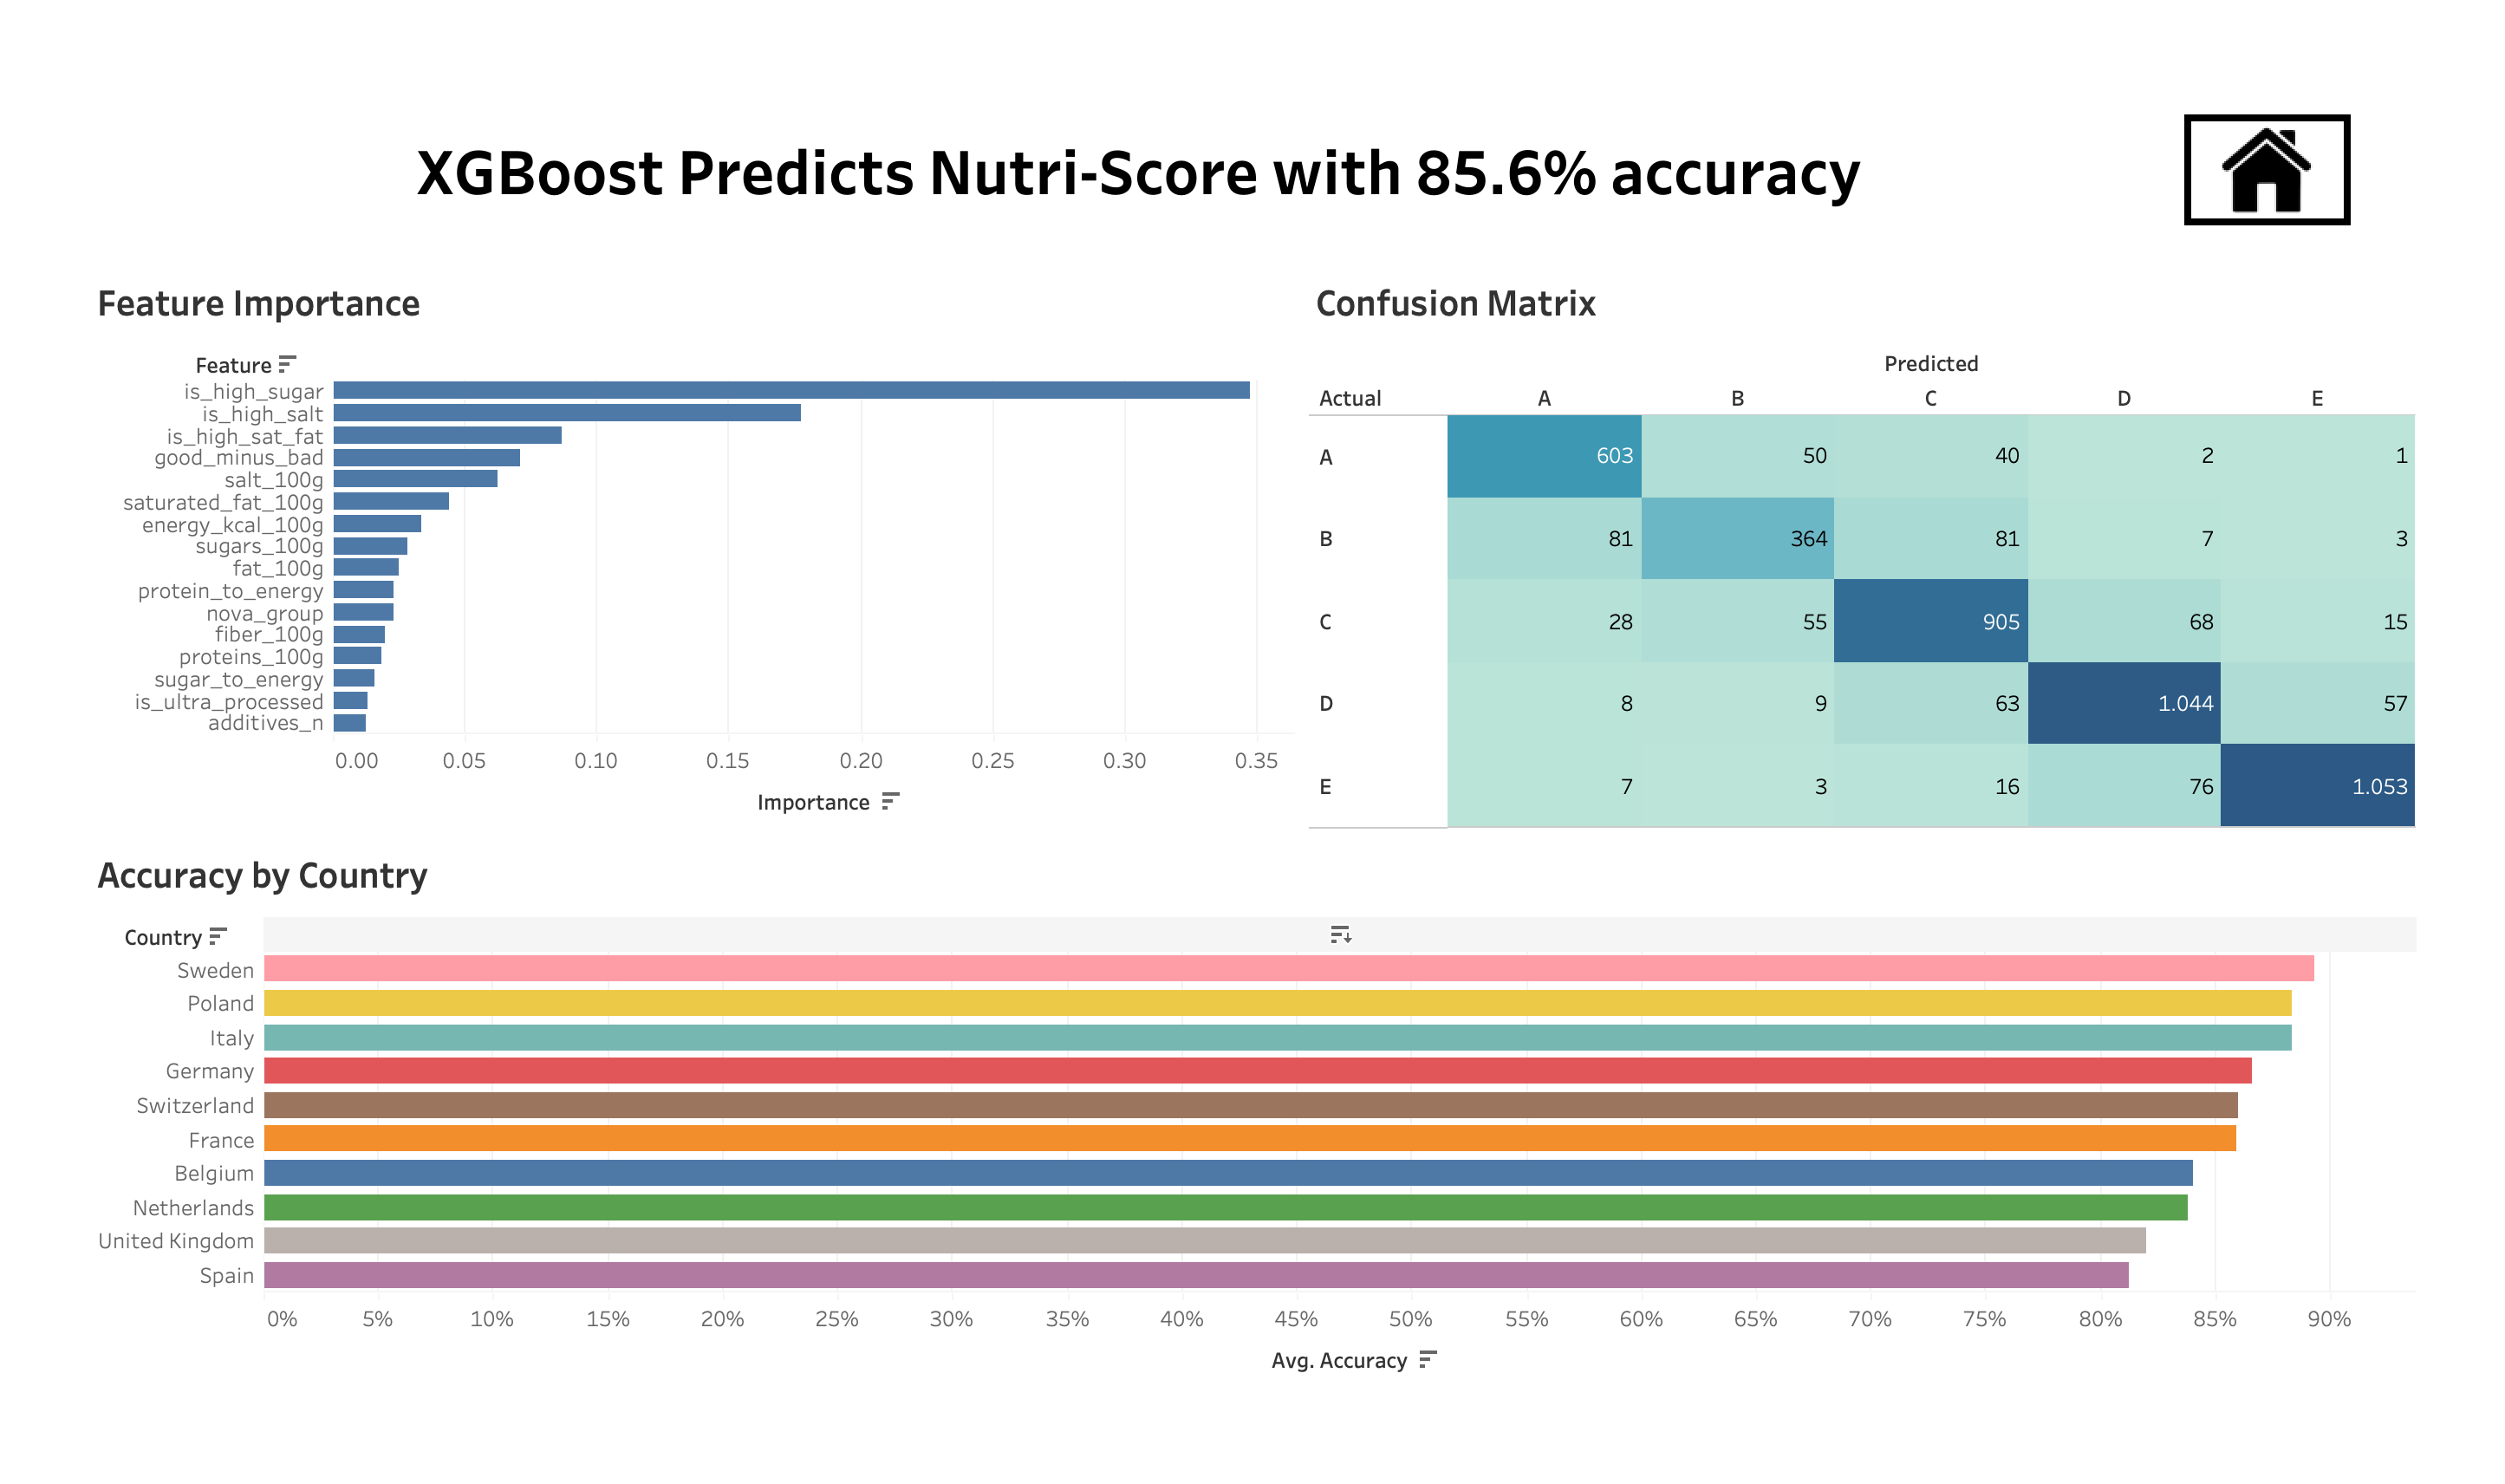

This screenshot's page, from the dashboard's own definition file:
{"tool":"tableau","page":{"name":"Dashboard 3","canvas":[1366,768],"ordinal":2},"visuals":[{"type":"text","box":[18,18,1198,72]},{"type":"dashboard-object","box":[1216,18,104,72]},{"type":"worksheet","title":"Feature Importance","mark":"Automatic","rows":["feature"],"cols":["importance"],"box":[8,108,703,330]},{"type":"worksheet","title":"Confusion Matrix","mark":"Square","rows":["actual"],"cols":["predicted"],"box":[711,108,647,330]},{"type":"worksheet","title":"Accuracy by Country","mark":"Automatic","rows":["country"],"cols":["accuracy"],"box":[8,438,1350,322]}]}

Visuals, with their boxes on the page's 1366x768 design canvas (x1, y1, x2, y2). These are canvas units, not pixel positions in the 2505x1484 screenshot, which may show the page scaled, cropped or inside an application window:
text: box(18, 18, 1216, 90)
dashboard-object: box(1216, 18, 1320, 90)
"Feature Importance" worksheet: box(8, 108, 711, 438)
"Confusion Matrix" worksheet (Square marks): box(711, 108, 1358, 438)
"Accuracy by Country" worksheet: box(8, 438, 1358, 760)
